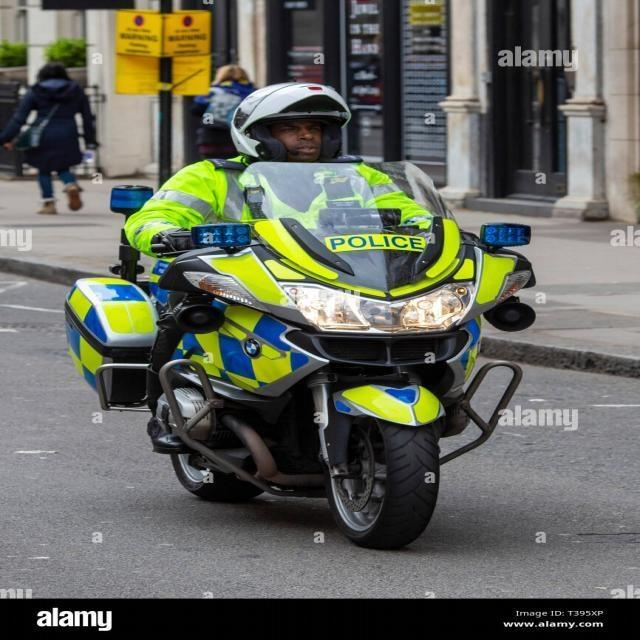Motorcycle: (46, 194, 540, 556)
